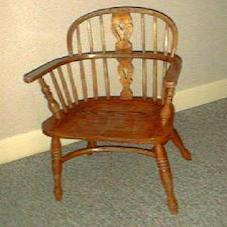chair: (20, 6, 212, 214)
